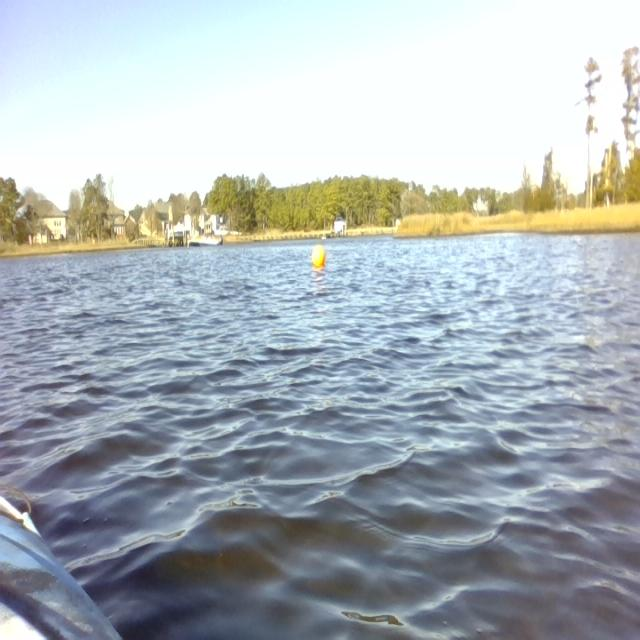Buoy: (308, 238, 328, 274)
